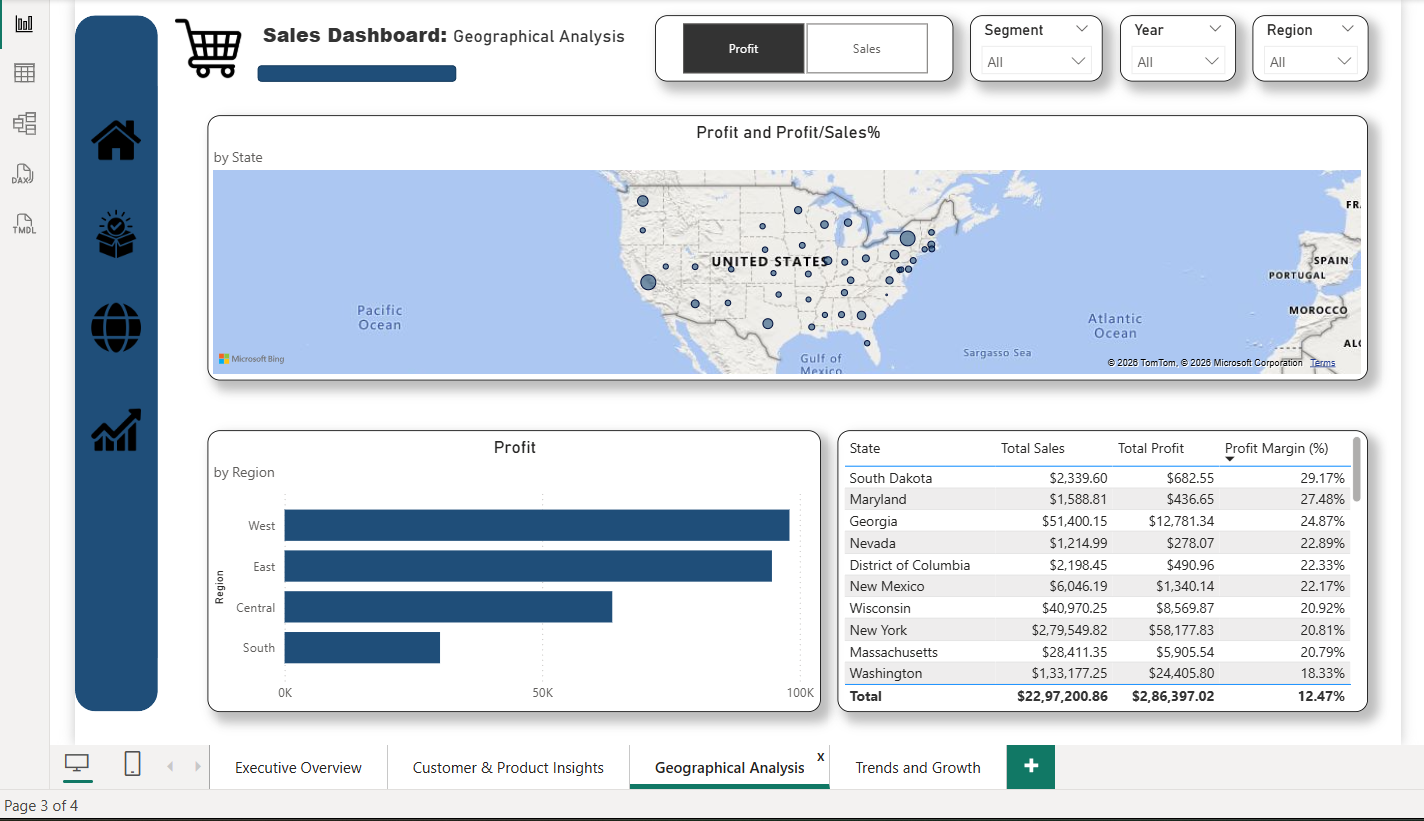

Layout of this report page (visuals, bound fields, positions):
{"tool":"powerbi","page":{"name":"Geographical Analysis","canvas":[1280,720],"ordinal":2},"visuals":[{"type":"slicer","fields":{"Values":["dim_Date.Year"]},"box":[1008,16,112,64],"z":0},{"type":"slicer","fields":{"Values":["dim_Customers.Region"]},"box":[1136,16,112,64],"z":1000},{"type":"slicer","fields":{"Values":["dim_Customers.Segment"]},"box":[864,16,128,64],"z":2000},{"type":"image","box":[96,16,64,64],"z":3000},{"type":"textbox","box":[176,16,368,48],"z":4000},{"type":"shape","box":[176,64,192,16],"z":5000},{"type":"shape","box":[0,16,80,672],"z":6000},{"type":"image","box":[16,112,48,48],"z":7000},{"type":"slicer","fields":{"Values":["Metric Selector.Metric Selector"]},"box":[560,16,288,64],"z":8000},{"type":"map","fields":{"Size":["fact_superstore.Total Profit"],"Category":["dim_Customers.State"]},"box":[128,112,1120,256],"z":9000},{"type":"tableEx","fields":{"Values":["dim_Customers.State","Sum(fact_superstore.Sales)","Sum(fact_superstore.Profit)","dim_Customers.Profit/Sales%"]},"box":[736,416,512,272],"z":10000},{"type":"barChart","fields":{"Y":["fact_superstore.Total Profit"],"Category":["dim_Customers.Region"]},"box":[128,416,592,272],"z":11000},{"type":"image","box":[16,293.3,48,48],"z":12000},{"type":"image","box":[16,202.7,48,48],"z":13000},{"type":"image","box":[16,384,48,64],"z":14000}]}

Visuals, with their boxes on the page's 1280x720 design canvas (x1, y1, x2, y2). These are canvas units, not pixel positions in the 1424x821 screenshot, which may show the page scaled, cropped or inside an application window:
slicer - dim_Date.Year: bbox(1008, 16, 1120, 80)
slicer - dim_Customers.Region: bbox(1136, 16, 1248, 80)
slicer - dim_Customers.Segment: bbox(864, 16, 992, 80)
image: bbox(96, 16, 160, 80)
textbox: bbox(176, 16, 544, 64)
shape: bbox(176, 64, 368, 80)
shape: bbox(0, 16, 80, 688)
image: bbox(16, 112, 64, 160)
slicer - Metric Selector.Metric Selector: bbox(560, 16, 848, 80)
map - fact_superstore.Total Profit x dim_Customers.State: bbox(128, 112, 1248, 368)
tableEx - dim_Customers.State x Sum(fact_superstore.Sales): bbox(736, 416, 1248, 688)
barChart - fact_superstore.Total Profit x dim_Customers.Region: bbox(128, 416, 720, 688)
image: bbox(16, 293, 64, 341)
image: bbox(16, 203, 64, 251)
image: bbox(16, 384, 64, 448)
